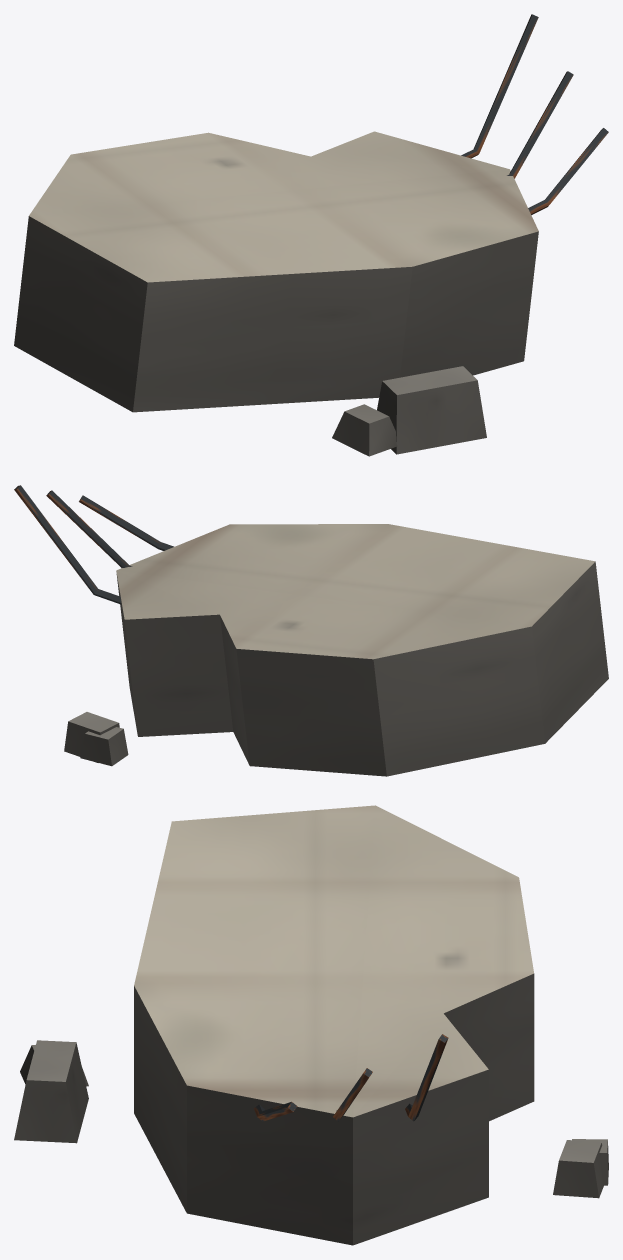
File: rubble_chunk.glb
The picture shows the model from 3 angles, top to bottom: view 1: azimuth 30°, elevation 25°; view 2: azimuth 150°, elevation 25°; view 3: azimuth 270°, elevation 25°; orthographic projection. The views are drawn at different scales.
Parts seen in each view (by area): view 1: rubble_chunk; view 2: rubble_chunk; view 3: rubble_chunk.
Boxes of the visible parts, x1,y1,x2,y2 form: rubble_chunk: [14, 14, 608, 456]; rubble_chunk: [14, 485, 608, 776]; rubble_chunk: [14, 805, 608, 1245].
Bounding box in the file's own units: 0.9145 × 0.3697 × 0.7881.
1 material, 1 textured.
